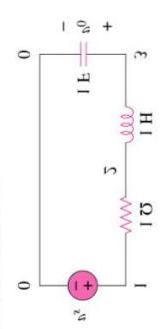inductor: (99, 87, 136, 152)
